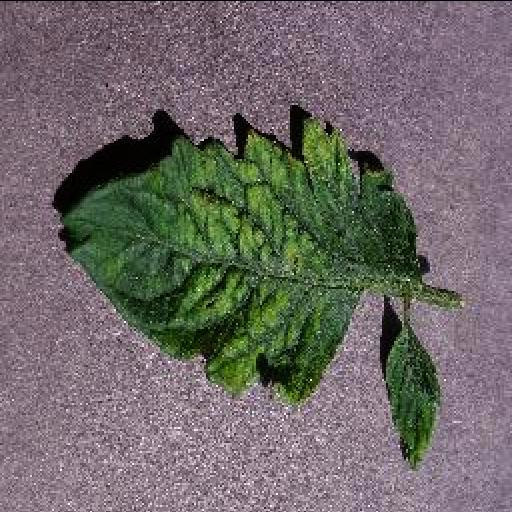disease_tomato: (54, 114, 428, 406), (381, 330, 442, 471)
